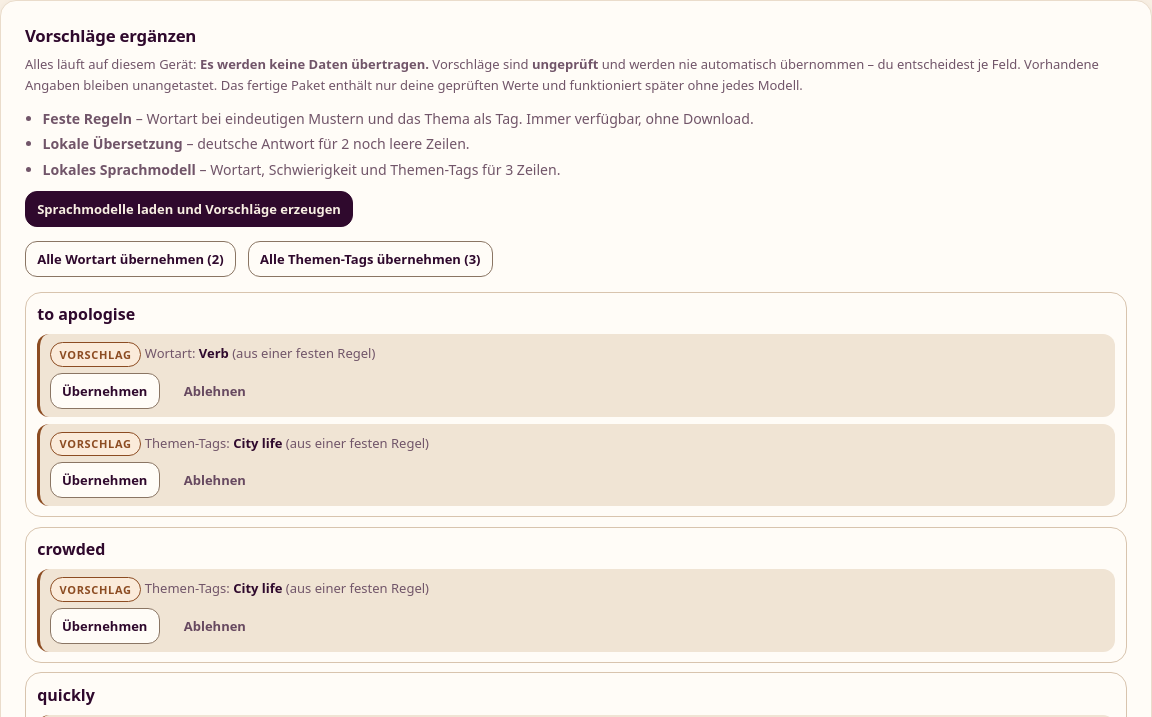
Test: User Activation: beide Anbieter starten im selben Klick › ruft prepare für Übersetzung und Sprachmodell auf, bevor eines aufgelöst ist
Click the button "Sprachmodelle laden und Vorschläge erzeugen" at (189, 209), box [25,191,353,227]
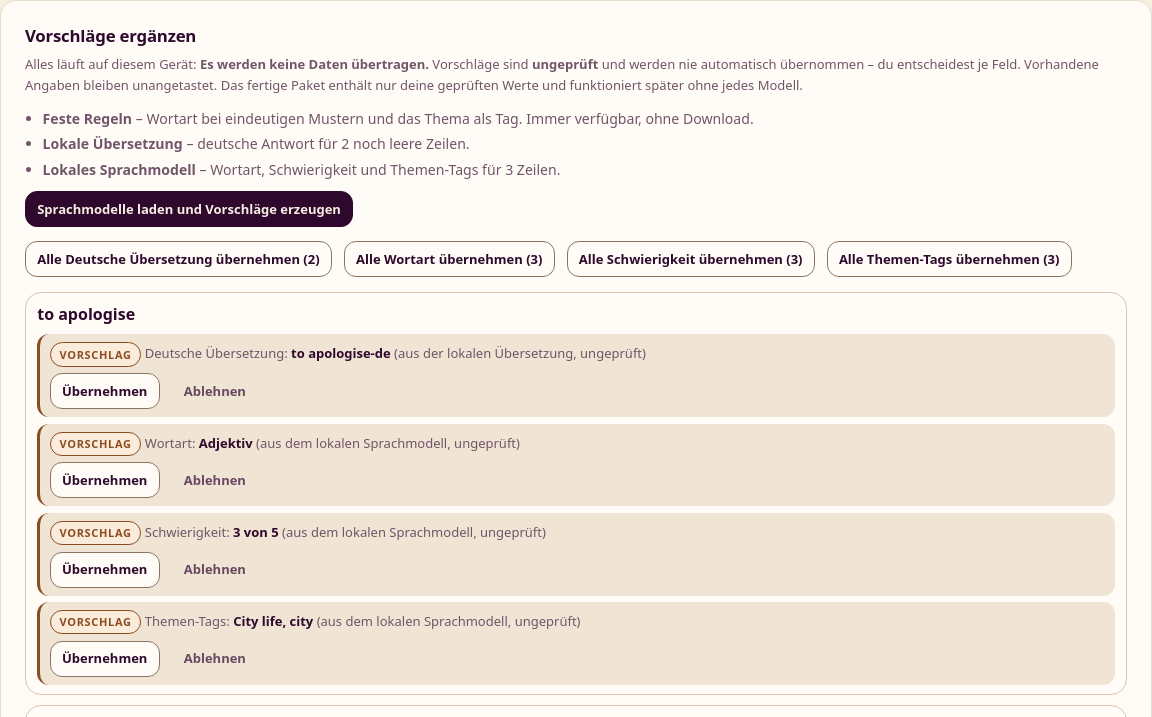
Result: the text "to apologise-de" is shown at [291,345,391,363]
